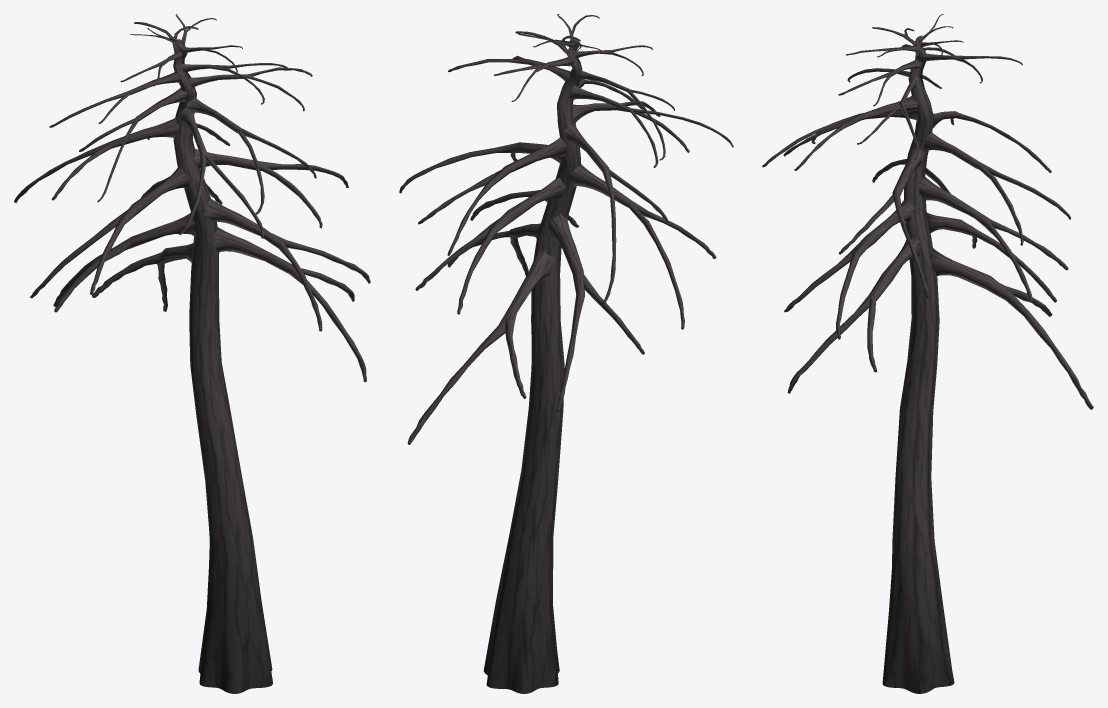
File: Dead_Tree.glb
3 renders of one model, left to right at view 1: azimuth 30°, elevation 25°; view 2: azimuth 150°, elevation 25°; view 3: azimuth 270°, elevation 25°, orthographic. The views are drawn at different scales.
Parts seen in each view (by area): view 1: DeadTree_3; view 2: DeadTree_3; view 3: DeadTree_3.
Part boxes in pixels (box(x1,y1,x2,y2)): DeadTree_3: box(14, 14, 370, 693); DeadTree_3: box(399, 14, 733, 693); DeadTree_3: box(762, 14, 1093, 693).
Bounding box in the file's own units: 6.39 × 13.28 × 6.43.
Materials: 1 (1 with a texture image).
